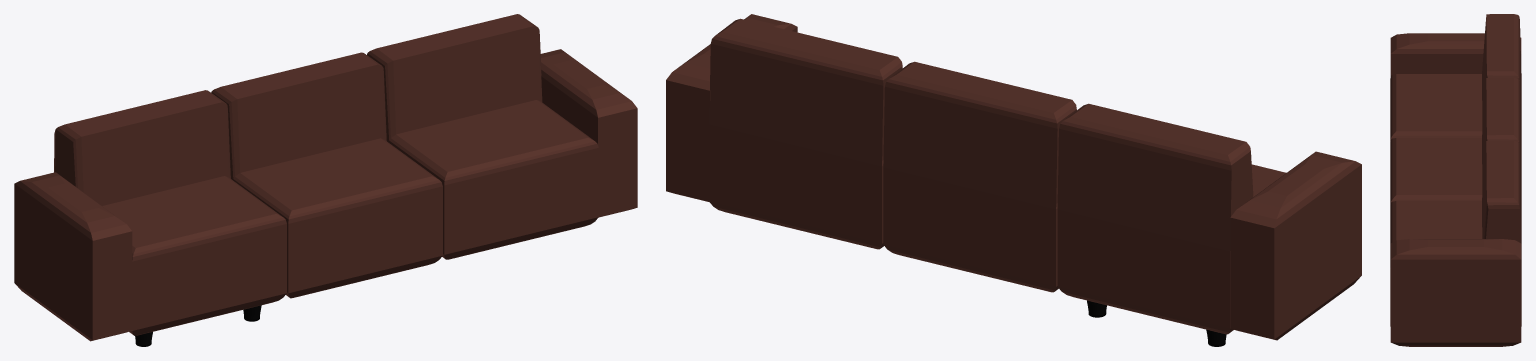
The model's file is sofa.fbx.
The picture shows the model from 3 angles, left to right: view 1: azimuth 30°, elevation 25°; view 2: azimuth 150°, elevation 25°; view 3: azimuth 270°, elevation 25°; orthographic projection. The views are drawn at different scales.
Visible parts, largest first — view 1: sofa.002, 1sofa, sofa, side; view 2: sofa, sofa.002, 1sofa, side, sofa feet; view 3: side, sofa, 1sofa, sofa.002.
Boxes of the visible parts, x1,y1,x2,y2 form: sofa.002: (367, 14, 598, 259); 1sofa: (211, 52, 442, 298); sofa: (54, 90, 286, 335); side: (14, 49, 637, 341); sofa: (1057, 103, 1286, 334); sofa.002: (709, 18, 902, 249); 1sofa: (883, 61, 1076, 292); side: (666, 14, 1361, 340); sofa feet: (1087, 300, 1226, 346); side: (1390, 33, 1521, 346); sofa: (1390, 14, 1521, 141); 1sofa: (1390, 77, 1521, 204); sofa.002: (1390, 140, 1521, 326).
Size of the model in its own units: 2079 by 653 by 521.
